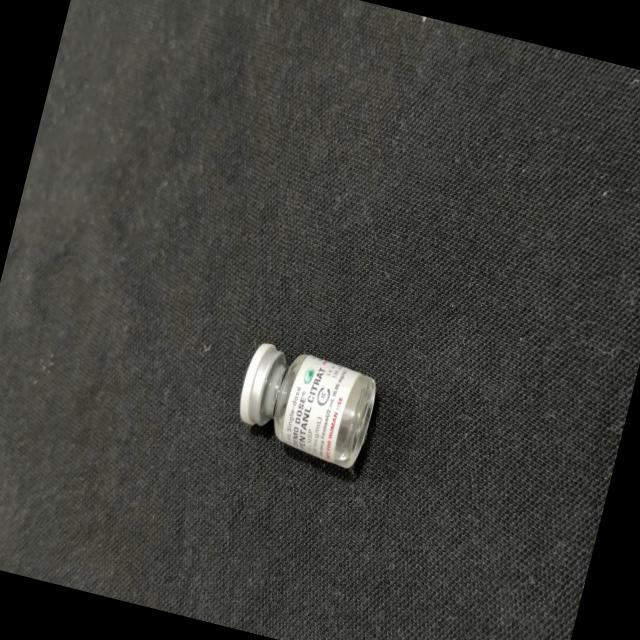fentanl_citrat: (231, 342, 380, 471)
